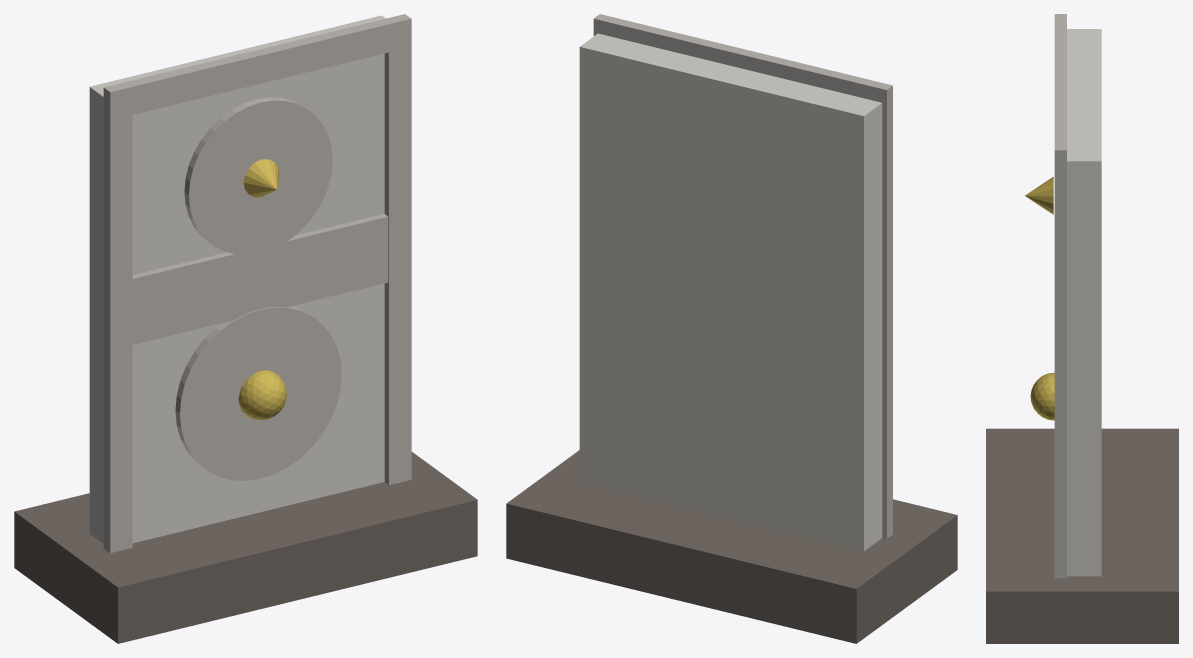
Rendered from amaravati-relief.glb.
The picture shows the model from 3 angles, left to right: view 1: azimuth 30°, elevation 25°; view 2: azimuth 150°, elevation 25°; view 3: azimuth 270°, elevation 25°; orthographic projection. The views are drawn at different scales.
Parts seen in each view (by area): view 1: geometry_1, geometry_0, geometry_2, geometry_4, geometry_5, geometry_7, geometry_8, geometry_9, geometry_3, geometry_6; view 2: geometry_1, geometry_0, geometry_9, geometry_7; view 3: geometry_0, geometry_1, geometry_8, geometry_9, geometry_3, geometry_6.
Part boxes in pixels (x1,y1,x2,y2): geometry_1: (89,15,385,543); geometry_0: (14,452,477,643); geometry_2: (175,306,341,480); geometry_4: (132,214,388,344); geometry_5: (184,97,332,254); geometry_7: (103,101,132,553); geometry_8: (384,33,411,485); geometry_9: (103,14,411,119); geometry_3: (238,370,286,419); geometry_6: (243,159,279,197); geometry_1: (579,33,882,551); geometry_0: (506,450,957,643); geometry_9: (593,14,892,116); geometry_7: (882,100,892,538); geometry_0: (986,428,1178,643); geometry_1: (1067,29,1101,576); geometry_8: (1054,163,1066,578); geometry_9: (1054,14,1066,176); geometry_3: (1030,372,1054,420); geometry_6: (1025,176,1053,214).
Size of the model in its own units: 8 by 11 by 4.
